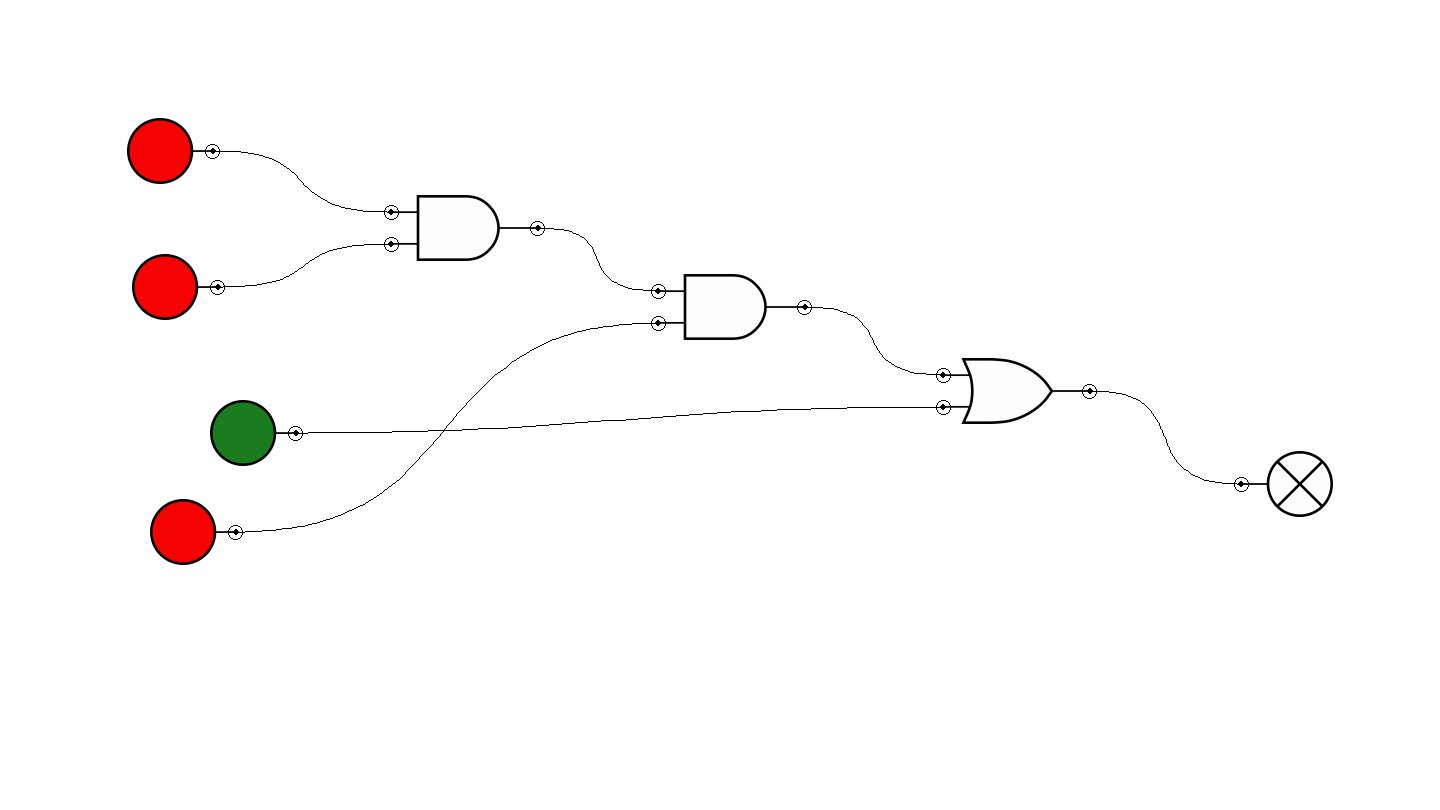and: (384, 195, 545, 261), (651, 274, 812, 340)
bulb: (1234, 451, 1333, 517)
or: (936, 358, 1097, 424)
switch_False: (132, 254, 225, 320), (127, 118, 220, 184), (150, 499, 243, 565)
switch_True: (210, 400, 303, 466)
